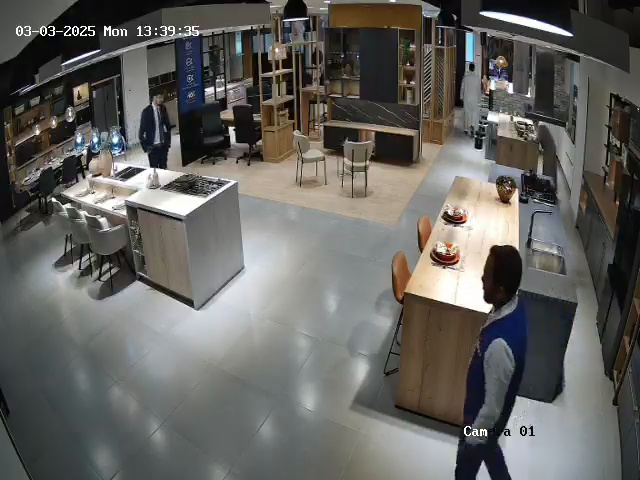employee: (454, 244, 528, 480), (139, 93, 172, 170)
male: (460, 63, 486, 138)
